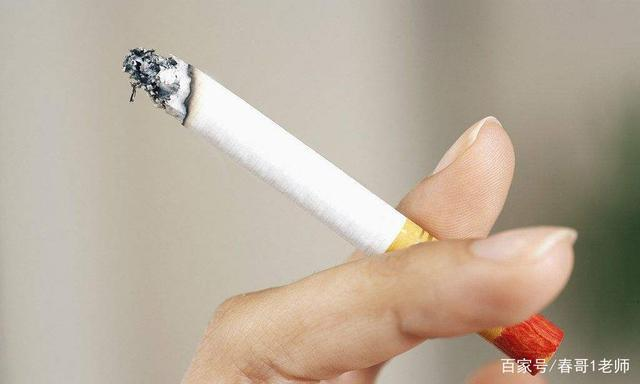smoke: (122, 46, 566, 374)
